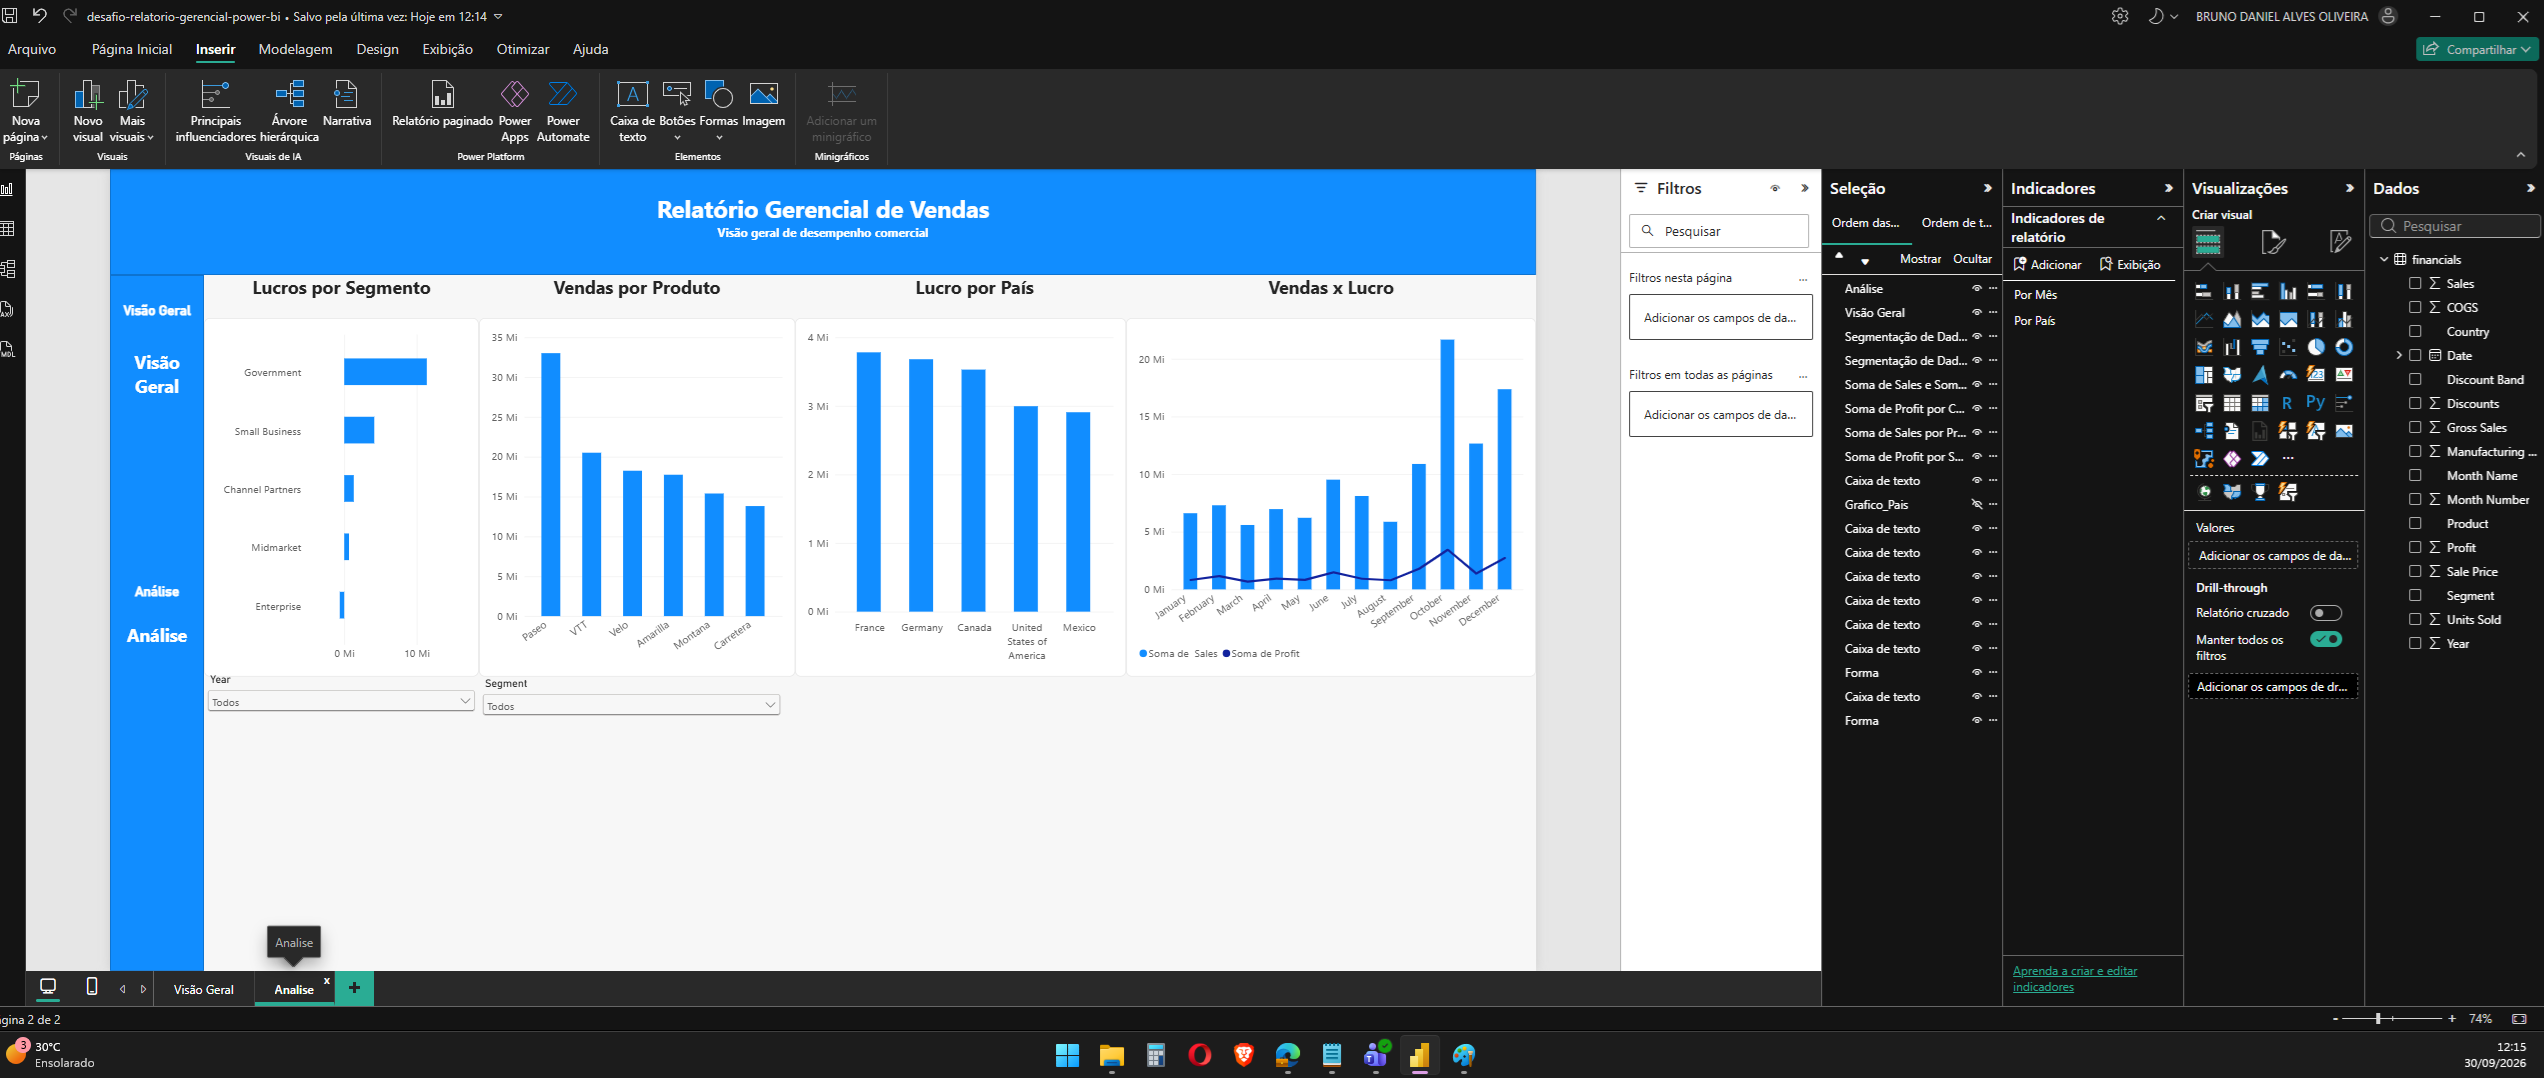

This screenshot's page, from the dashboard's own definition file:
{"tool":"powerbi","page":{"name":"Analise","canvas":[1920,1080],"ordinal":1},"visuals":[{"type":"shape","box":[0,0,1920.3,142.7],"z":0},{"type":"textbox","box":[0,31,1920.3,111.8],"z":1000},{"type":"shape","box":[0,142.7,126.6,937.3],"z":2000},{"type":"textbox","box":[0,243.7,126.6,70],"z":3000},{"type":"textbox","box":[0,611.4,126.6,145.4],"z":4000},{"type":"textbox","box":[126.6,142.7,370.3,57.9],"z":5000},{"type":"textbox","box":[496.9,142.7,425.5,48.5],"z":6000},{"type":"textbox","box":[960.1,142.7,408,57.9],"z":7000},{"type":"textbox","box":[1368.2,142.7,552.1,57.9],"z":8000},{"type":"textbox","box":[1754,220,166,150],"z":18000},{"type":"clusteredBarChart","fields":{"Category":["financials.Segment"],"Y":["Sum(financials.Profit)"]},"box":[126.6,200.6,370.3,483.4],"z":18001},{"type":"clusteredColumnChart","fields":{"Category":["financials.Product"],"Y":["Sum(financials. Sales)"]},"box":[496.9,200.6,425.5,483.4],"z":18002},{"type":"clusteredColumnChart","fields":{"Category":["financials.Country"],"Y":["Sum(financials.Profit)"]},"box":[922.4,200.6,445.7,483.4],"z":18003},{"type":"lineClusteredColumnComboChart","fields":{"Category":["financials.Month Name"],"Y":["Sum(financials. Sales)"],"Y2":["Sum(financials.Profit)"]},"box":[1368.2,200.6,552.1,483.4],"z":18004},{"type":"slicer","fields":{"Values":["financials.Year"]},"box":[126.6,678.7,370.3,156.2],"z":18005},{"type":"slicer","fields":{"Values":["financials.Segment"]},"box":[496.9,684.1,410.7,156.2],"z":18006},{"type":"actionButton","title":"Visão Geral","box":[13.5,179.1,100,40],"z":18007},{"type":"actionButton","title":"Análise","box":[13.5,557.5,100,40],"z":18008}]}

Visuals, with their boxes on the page's 1920x1080 design canvas (x1, y1, x2, y2). These are canvas units, not pixel positions in the 2544x1078 screenshot, which may show the page scaled, cropped or inside an application window:
shape: box(0, 0, 1920, 143)
textbox: box(0, 31, 1920, 143)
shape: box(0, 143, 127, 1080)
textbox: box(0, 244, 127, 314)
textbox: box(0, 611, 127, 757)
textbox: box(127, 143, 497, 201)
textbox: box(497, 143, 922, 191)
textbox: box(960, 143, 1368, 201)
textbox: box(1368, 143, 1920, 201)
textbox: box(1754, 220, 1920, 370)
clusteredBarChart - financials.Segment x Sum(financials.Profit): box(127, 201, 497, 684)
clusteredColumnChart - financials.Product x Sum(financials. Sales): box(497, 201, 922, 684)
clusteredColumnChart - financials.Country x Sum(financials.Profit): box(922, 201, 1368, 684)
lineClusteredColumnComboChart - financials.Month Name x Sum(financials. Sales): box(1368, 201, 1920, 684)
slicer - financials.Year: box(127, 679, 497, 835)
slicer - financials.Segment: box(497, 684, 908, 840)
"Visão Geral" actionButton: box(14, 179, 114, 219)
"Análise" actionButton: box(14, 558, 114, 598)
